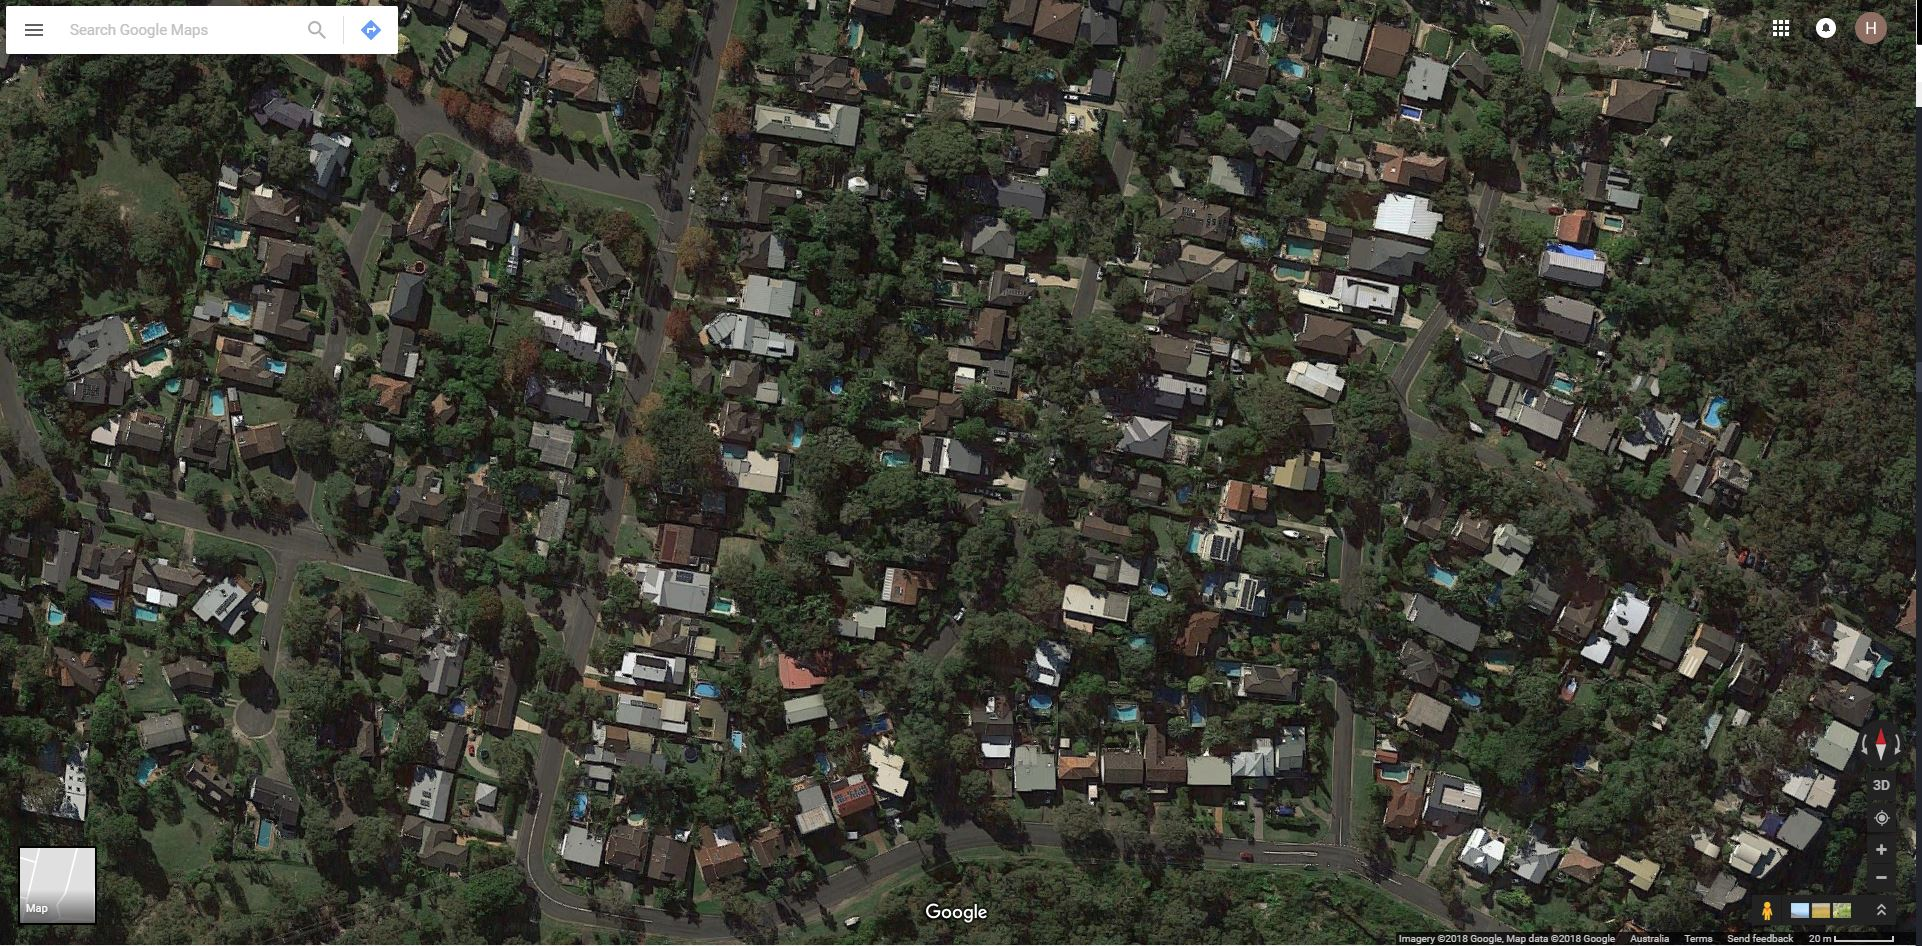pool: (1542, 240, 1601, 263), (1378, 760, 1419, 785), (1269, 261, 1315, 282), (375, 709, 402, 744), (1450, 684, 1486, 709), (1282, 238, 1323, 260), (1703, 395, 1726, 430), (134, 755, 161, 784), (217, 184, 241, 214), (720, 437, 751, 461), (1426, 566, 1460, 587), (858, 716, 896, 734), (83, 592, 119, 611), (569, 789, 592, 819), (1547, 374, 1578, 396), (254, 816, 275, 848), (1278, 58, 1310, 78), (1871, 654, 1894, 683), (1570, 743, 1592, 772), (210, 224, 246, 241), (45, 600, 70, 626), (787, 419, 807, 451), (1486, 649, 1517, 669), (1185, 526, 1207, 554), (226, 301, 256, 321), (136, 324, 170, 341), (879, 450, 913, 467), (1256, 16, 1277, 44), (808, 752, 832, 776), (210, 386, 228, 417), (132, 604, 161, 624), (1111, 703, 1142, 721), (1188, 698, 1207, 725), (847, 21, 865, 49), (1399, 102, 1423, 123), (1214, 659, 1245, 675), (706, 596, 737, 611), (487, 251, 503, 281), (1153, 687, 1182, 703), (264, 358, 289, 375), (1025, 695, 1054, 709), (136, 350, 168, 364), (1202, 570, 1220, 594), (693, 683, 721, 697), (444, 698, 469, 714), (163, 375, 185, 393), (1240, 234, 1267, 249), (1601, 214, 1627, 228), (731, 730, 745, 754), (827, 379, 846, 396), (1150, 582, 1171, 597), (1129, 636, 1150, 651), (465, 458, 482, 475), (1180, 483, 1194, 504), (626, 809, 645, 823)
